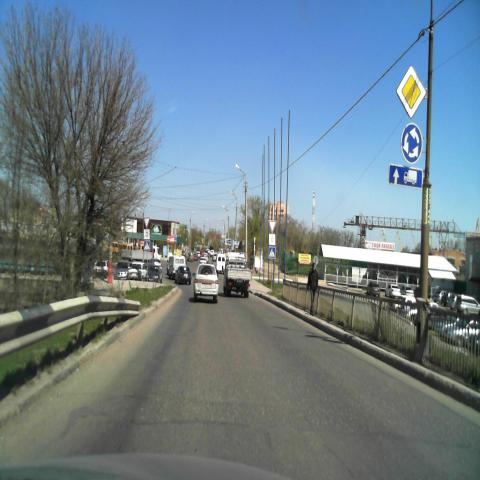2_2: (396, 64, 426, 118)
4_3: (401, 122, 423, 164)
